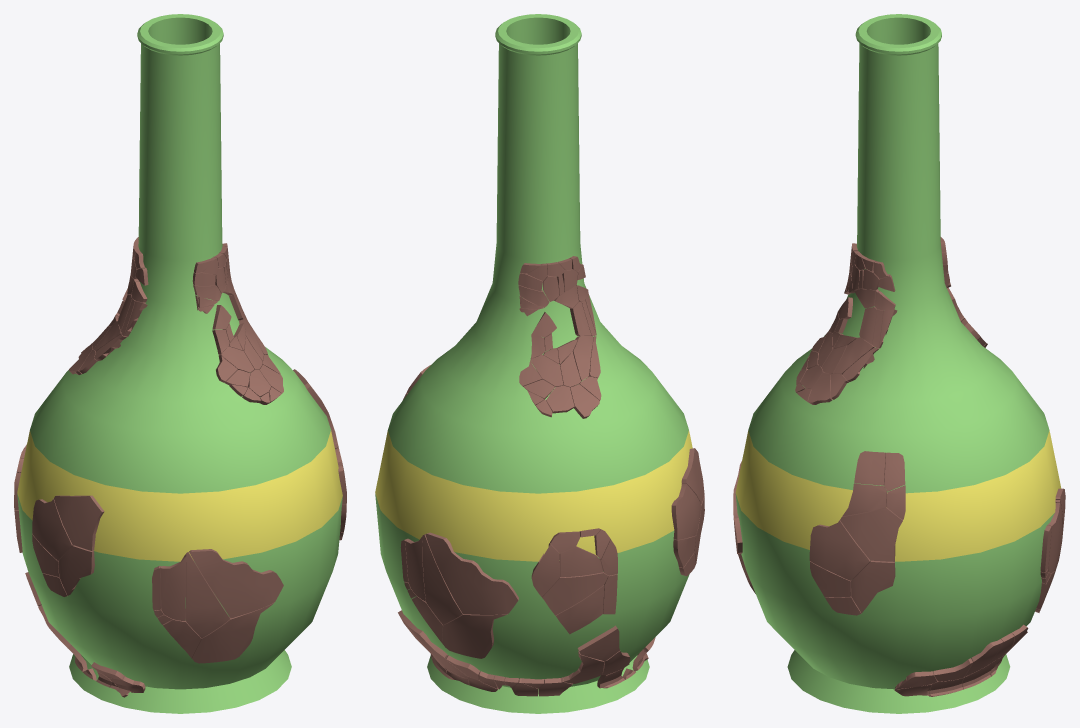
The model's file is OldPot.fbx.
3 renders of one model, left to right at view 1: azimuth 30°, elevation 25°; view 2: azimuth 150°, elevation 25°; view 3: azimuth 270°, elevation 25°, orthographic.
Parts seen in each view (by area): view 1: Oldpot, OldPotDirt.001_cell.047, OldPotDirt.001_cell.038, OldPotDirt.001_cell.011, OldPotDirt.001_cell.103, OldPotDirt.001_cell.100, OldPotDirt.001_cell.082, OldPotDirt.001_cell.094, OldPotDirt.001_cell.013, OldPotDirt.001_cell.101; view 2: Oldpot, OldPotDirt.001_cell.046, OldPotDirt.001_cell.041, OldPotDirt.001_cell.016, OldPotDirt.001_cell.071, OldPotDirt.001_cell.100, OldPotDirt.001_cell.091, OldPotDirt.001_cell.097, OldPotDirt.001_cell.017, OldPotDirt.001_cell.048, OldPotDirt.001_cell.056, OldPotDirt.001_cell.103 (+7 smaller); view 3: Oldpot, OldPotDirt.001_cell.019, OldPotDirt.001_cell.085, OldPotDirt.001_cell.014, OldPotDirt.001_cell.049, OldPotDirt.001_cell.042, OldPotDirt.001_cell.024, OldPotDirt.001_cell.040, OldPotDirt.001_cell.050, OldPotDirt.001_cell.008, OldPotDirt.001_cell.048, OldPotDirt.001_cell.009.
Part boxes in pixels (left/top/right/bottom): Oldpot: left=17, top=14, right=342, bottom=713; OldPotDirt.001_cell.047: left=189, top=549, right=283, bottom=618; OldPotDirt.001_cell.038: left=191, top=602, right=274, bottom=663; OldPotDirt.001_cell.011: left=185, top=552, right=229, bottom=638; OldPotDirt.001_cell.103: left=54, top=495, right=104, bottom=550; OldPotDirt.001_cell.100: left=32, top=498, right=73, bottom=560; OldPotDirt.001_cell.082: left=160, top=554, right=186, bottom=621; OldPotDirt.001_cell.094: left=58, top=545, right=94, bottom=595; OldPotDirt.001_cell.013: left=163, top=619, right=201, bottom=657; OldPotDirt.001_cell.101: left=32, top=534, right=59, bottom=576; Oldpot: left=375, top=14, right=692, bottom=713; OldPotDirt.001_cell.046: left=425, top=532, right=518, bottom=614; OldPotDirt.001_cell.041: left=442, top=614, right=507, bottom=658; OldPotDirt.001_cell.016: left=422, top=534, right=462, bottom=624; OldPotDirt.001_cell.071: left=542, top=572, right=608, bottom=615; OldPotDirt.001_cell.100: left=671, top=483, right=701, bottom=539; OldPotDirt.001_cell.091: left=555, top=585, right=604, bottom=634; OldPotDirt.001_cell.097: left=559, top=546, right=602, bottom=577; OldPotDirt.001_cell.017: left=531, top=543, right=559, bottom=596; OldPotDirt.001_cell.048: left=405, top=536, right=425, bottom=601; OldPotDirt.001_cell.056: left=577, top=625, right=619, bottom=661; OldPotDirt.001_cell.103: left=681, top=448, right=704, bottom=504; Oldpot: left=735, top=14, right=1061, bottom=713; OldPotDirt.001_cell.019: left=809, top=520, right=870, bottom=580; OldPotDirt.001_cell.085: left=840, top=507, right=902, bottom=561; OldPotDirt.001_cell.014: left=851, top=560, right=895, bottom=613; OldPotDirt.001_cell.049: left=842, top=483, right=886, bottom=516; OldPotDirt.001_cell.042: left=854, top=451, right=885, bottom=485; OldPotDirt.001_cell.024: left=810, top=561, right=851, bottom=597; OldPotDirt.001_cell.040: left=884, top=452, right=905, bottom=491; OldPotDirt.001_cell.050: left=833, top=337, right=874, bottom=374; OldPotDirt.001_cell.008: left=964, top=639, right=1003, bottom=676; OldPotDirt.001_cell.048: left=1048, top=503, right=1059, bottom=573; OldPotDirt.001_cell.009: left=808, top=372, right=832, bottom=404.
Size of the model in its own units: 139 by 293 by 139.
